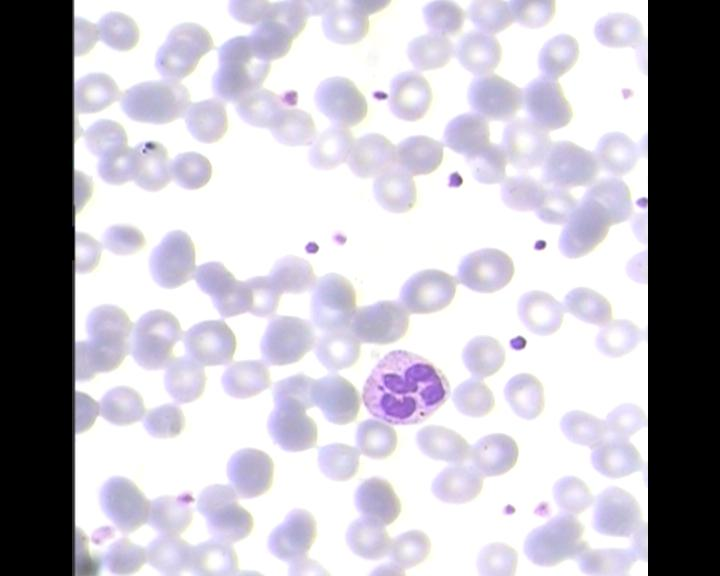neut: (357, 345, 458, 427)
